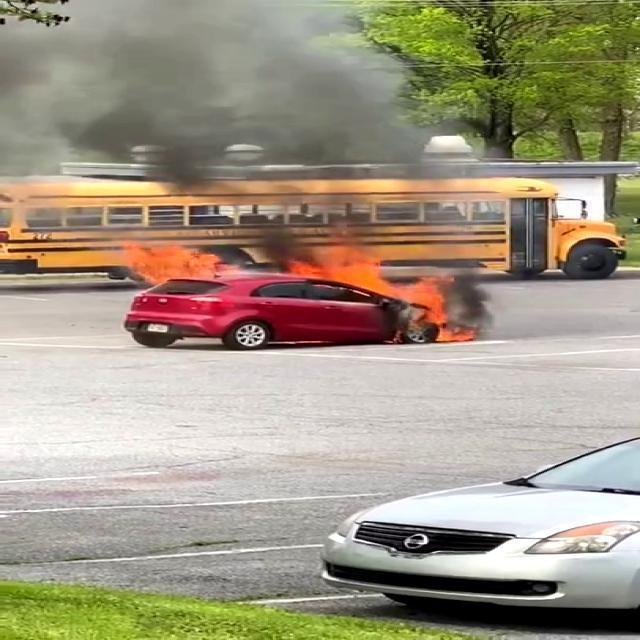Fire: (305, 246, 438, 309), (95, 242, 248, 290)
Smoke: (0, 0, 486, 268)
